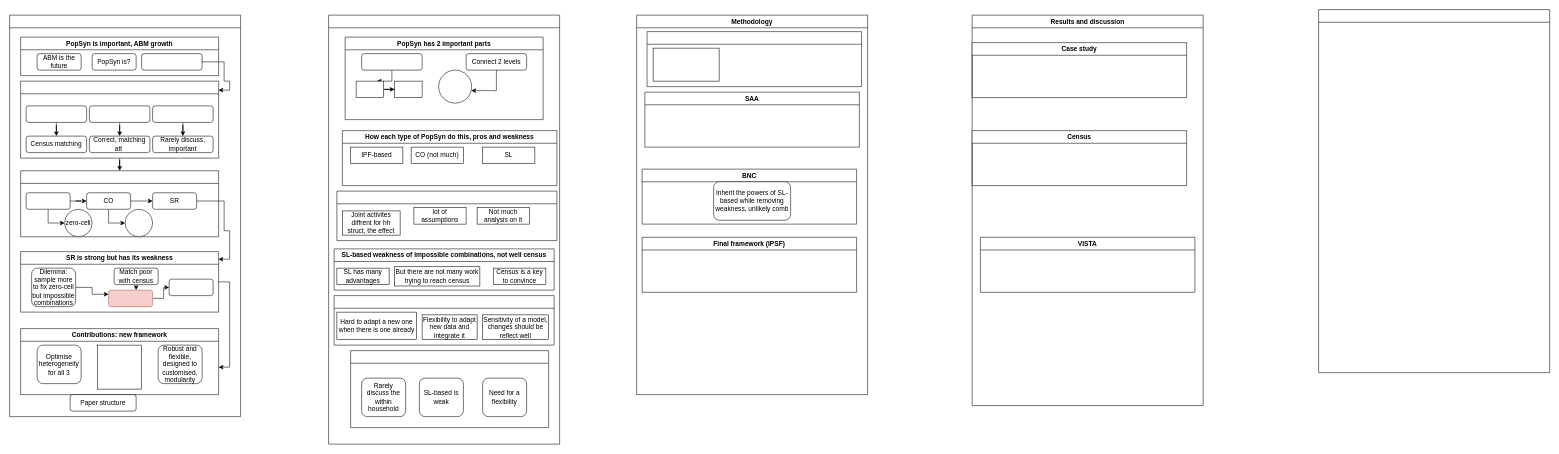
The diagram is 1559 pixels wide and 454 high, and some of its shapes have lost their labels. Each missing label, with the box of its shape:
A better method: (169, 279, 213, 296)
A realistic population is heterogenous: (20, 81, 219, 158)
BN: (647, 31, 862, 87)
Conclusion: (1318, 9, 1550, 373)
Fitting: (356, 81, 384, 98)
Household structure and why it is important, how thing is being done: (336, 191, 557, 241)
Households to people: (89, 105, 150, 122)
Introduction: (9, 15, 241, 417)
Literature review: (328, 15, 560, 444)
Mostly discussed this: (438, 70, 472, 103)
Not well in industry: (108, 290, 153, 307)
Research gaps: (350, 350, 549, 428)
Sampling: (394, 81, 422, 98)
Seperate BNC and AA: (97, 345, 142, 389)
So many algorithms, the need for customisability, also sensitivity: (334, 295, 554, 345)
Spatial: (26, 105, 87, 122)
SR (IPF): (26, 192, 70, 209)
Synthetic 1 level: (361, 53, 422, 70)
The goal of PopSyn is the realistic: (141, 53, 202, 70)
There are 3 types of PopSyn to tackle different aspects: (20, 170, 219, 237)
time complex: (125, 209, 153, 237)
Within household: (152, 105, 213, 122)
